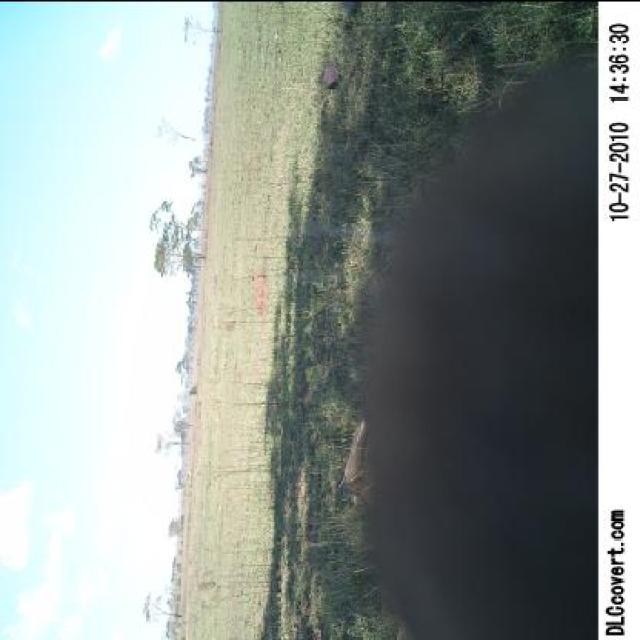Lion: (394, 226, 592, 583)
